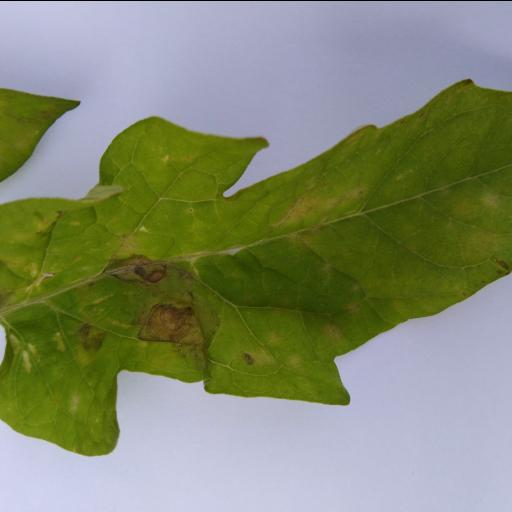Early Blight: (0, 69, 512, 458)
